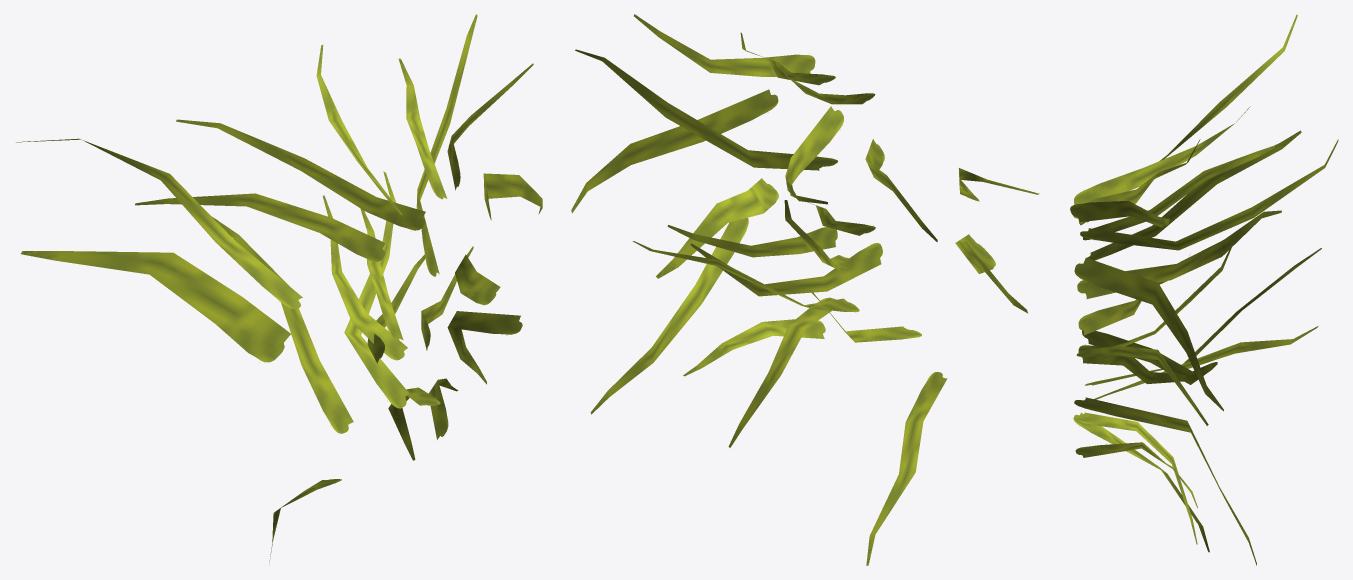
Rendered from grass3.fbx.
3 renders of one model, left to right at view 1: azimuth 30°, elevation 25°; view 2: azimuth 150°, elevation 25°; view 3: azimuth 270°, elevation 25°, orthographic. The views are drawn at different scales.
Visible parts, largest first — view 1: Plane.088; view 2: Plane.088; view 3: Plane.088.
Boxes of the visible parts, x1,y1,x2,y2 form: Plane.088: [16, 14, 542, 562]; Plane.088: [571, 14, 1039, 565]; Plane.088: [1070, 14, 1338, 565].
Size of the model in its own units: 42.39 by 40.44 by 20.55.
